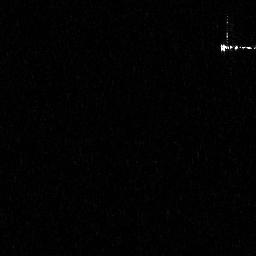ship: (219, 14, 256, 56)
